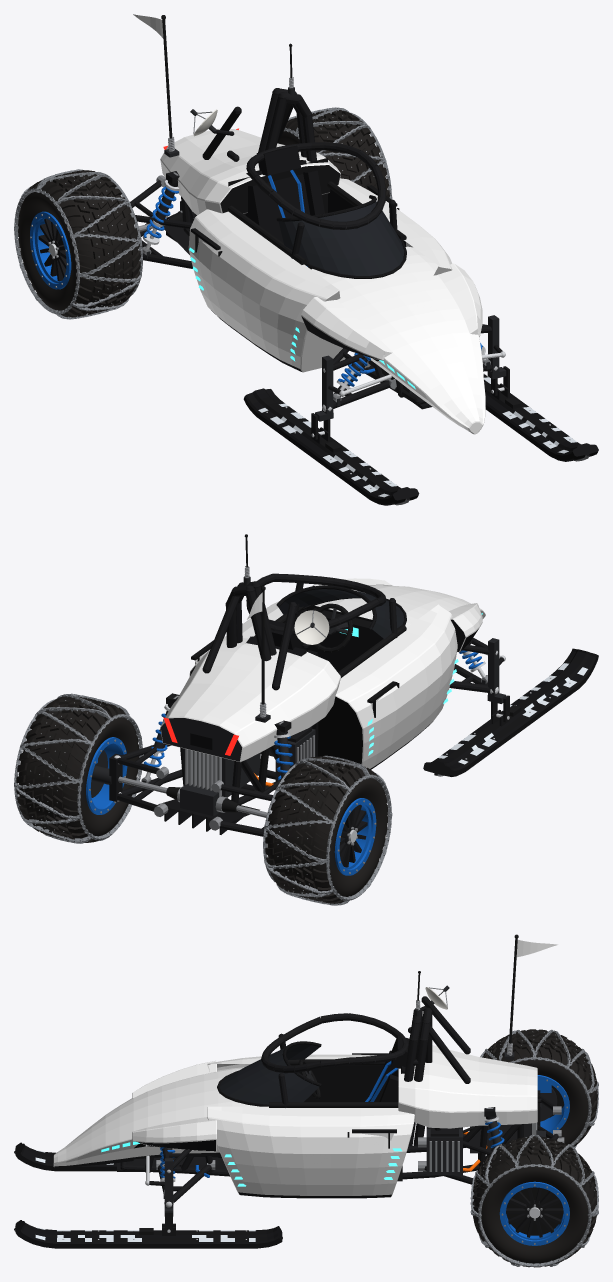
File: skicar.glb
3 views of the same model, one above another, from view 1: azimuth 30°, elevation 25°; view 2: azimuth 150°, elevation 25°; view 3: azimuth 270°, elevation 25° (orthographic). The views are drawn at different scales.
Parts seen in each view (by area): view 1: wheel.RR, body_pods, body_nose, body_deck, body_screen, wheel.FR, body_shoulders, wheel.RL, body_interior, wheel.FL, body_halo, body_hoop (+8 smaller); view 2: wheel.RR, wheel.RL, body_pods, body_deck, wheel.FR, body_drivetrain, body_hoop, body_chassis, body_interior, body_nose, body_screen, body_halo (+12 smaller); view 3: body_pods, wheel.RL, body_deck, body_nose, wheel.RR, wheel.FL, body_chassis, body_screen, body_cockpit, body_shoulders, body_hoop, body_halo (+7 smaller).
Boxes of the visible parts, x1,y1,x2,y2 form: wheel.RR: (14, 169, 142, 319); body_pods: (188, 178, 452, 372); body_nose: (311, 246, 485, 434); body_deck: (160, 128, 340, 215); body_screen: (276, 195, 406, 278); wheel.FR: (243, 388, 419, 505); body_shoulders: (301, 263, 482, 361); wheel.RL: (277, 107, 392, 199); body_interior: (245, 145, 324, 269); wheel.FL: (483, 374, 598, 461); body_halo: (246, 142, 397, 258); body_hoop: (202, 88, 316, 161); wheel.RR: (263, 755, 392, 905); wheel.RL: (14, 693, 142, 843); body_pods: (189, 584, 457, 769); body_deck: (160, 638, 340, 762); wheel.FR: (423, 648, 598, 776); body_drivetrain: (158, 748, 260, 834); body_hoop: (202, 581, 312, 728); body_chassis: (166, 693, 318, 805); body_interior: (246, 603, 383, 656); body_nose: (315, 585, 485, 627); body_screen: (276, 585, 406, 639); body_halo: (246, 573, 397, 637); body_pods: (207, 1054, 414, 1198); wheel.RL: (470, 1134, 598, 1267); body_deck: (398, 1045, 537, 1128); body_nose: (53, 1067, 258, 1167); wheel.RR: (480, 1029, 598, 1147); wheel.FL: (14, 1220, 282, 1248); body_chassis: (117, 1107, 523, 1179); body_screen: (217, 1041, 321, 1106); body_cockpit: (269, 1059, 402, 1181); body_shoulders: (132, 1060, 216, 1151); body_hoop: (404, 996, 470, 1146); body_halo: (261, 1013, 408, 1107).
Size of the model in its own units: 2.29 by 1.96 by 4.16.
